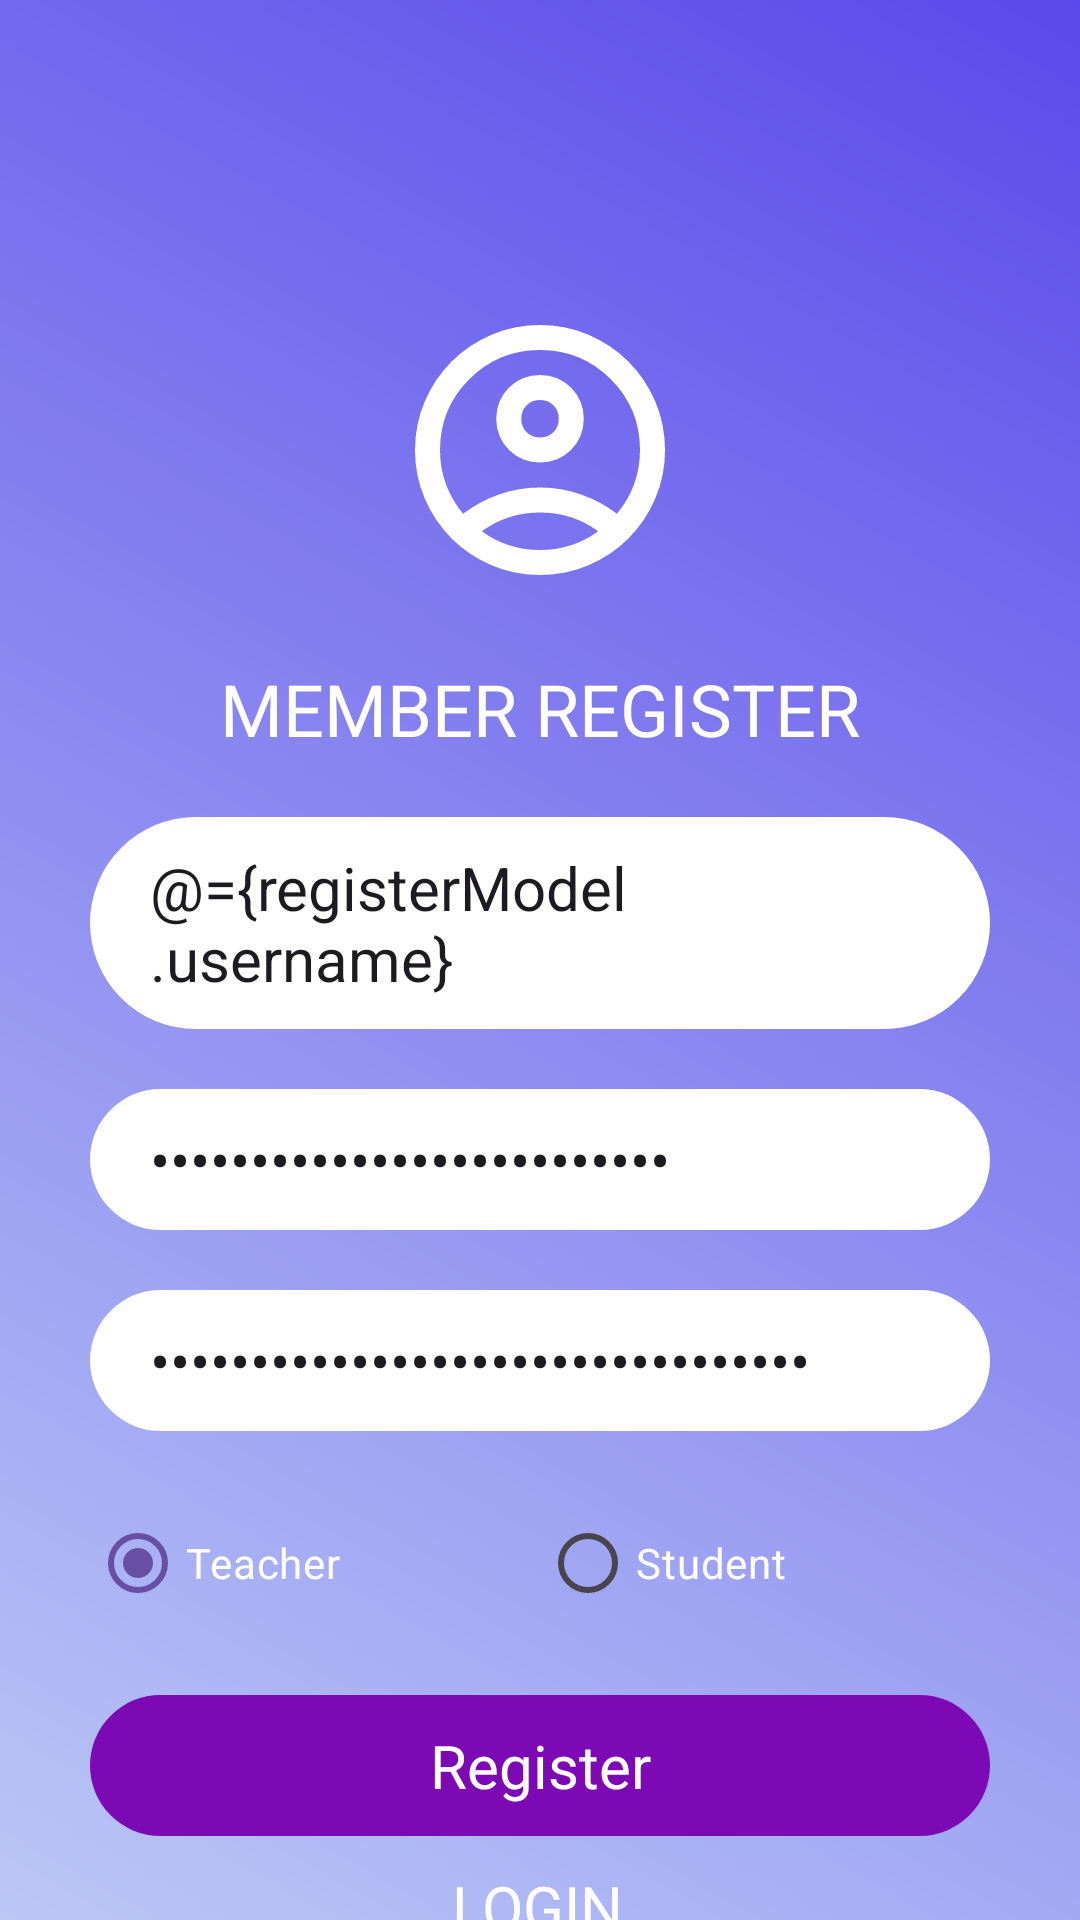

Named icons in this screenshot (1080x1920) and their bounding boxes, (x1, y1, x2, y2):
account circle: (415, 325, 665, 575)
